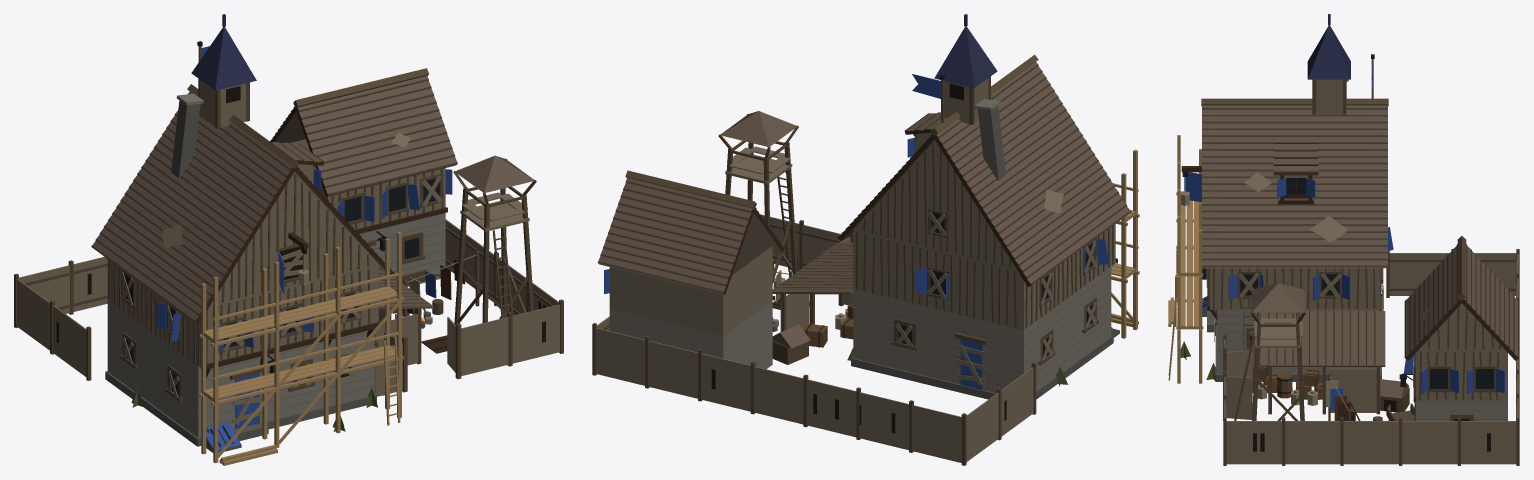
Rendered from dieb.glb.
3 renders of one model, left to right at view 1: azimuth 30°, elevation 25°; view 2: azimuth 150°, elevation 25°; view 3: azimuth 270°, elevation 25°, orthographic. The views are drawn at different scales.
Parts seen in each view (by area): view 1: Haus, Stufe3, Stufe1, Geruest, Stufe2, Leerstand; view 2: Haus, Stufe3, Stufe1, Stufe2, Geruest, Leerstand, Fahne; view 3: Haus, Stufe3, Stufe1, Stufe2, Geruest, Leerstand.
Boxes of the visible parts, bbox=[...] form: Haus: bbox=[91, 84, 395, 452]; Stufe3: bbox=[191, 14, 536, 324]; Stufe1: bbox=[14, 219, 563, 396]; Geruest: bbox=[199, 232, 403, 465]; Stufe2: bbox=[271, 142, 479, 365]; Leerstand: bbox=[122, 249, 377, 433]; Haus: bbox=[837, 54, 1130, 399]; Stufe3: bbox=[597, 14, 997, 369]; Stufe1: bbox=[592, 214, 1036, 465]; Stufe2: bbox=[772, 112, 946, 347]; Geruest: bbox=[1111, 150, 1139, 338]; Leerstand: bbox=[847, 211, 1114, 386]; Fahne: bbox=[912, 74, 945, 123]; Haus: bbox=[1181, 79, 1393, 381]; Stufe3: bbox=[1234, 14, 1519, 420]; Stufe1: bbox=[1223, 249, 1519, 465]; Stufe2: bbox=[1243, 137, 1385, 420]; Geruest: bbox=[1168, 135, 1203, 383]; Leerstand: bbox=[1177, 273, 1383, 381].
Bounding box in the file's own units: 15.73 × 14.21 × 13.79.
